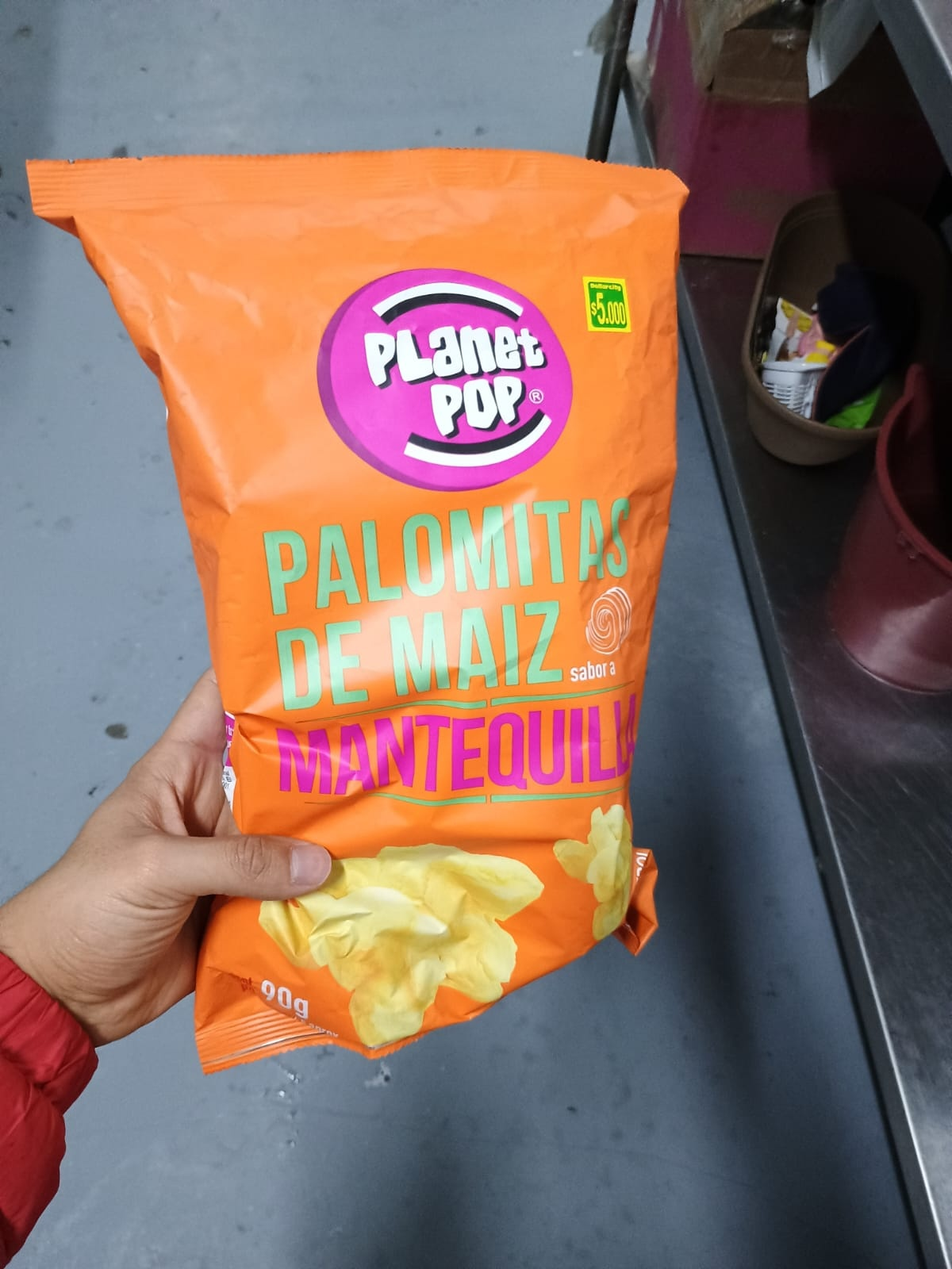Ordinario: (27, 149, 689, 1078)
